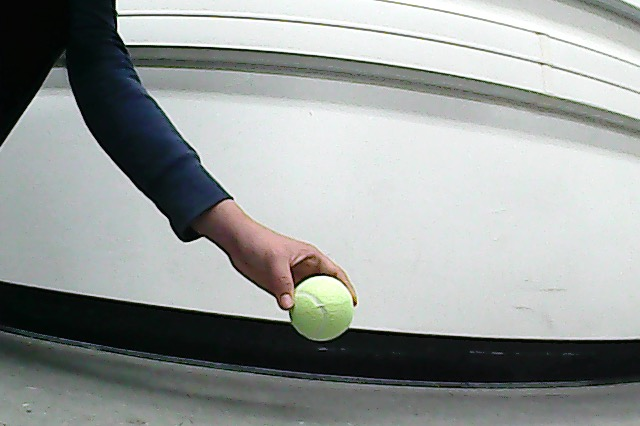ball: (284, 273, 358, 344)
